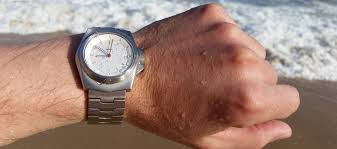clock: (82, 32, 135, 78)
